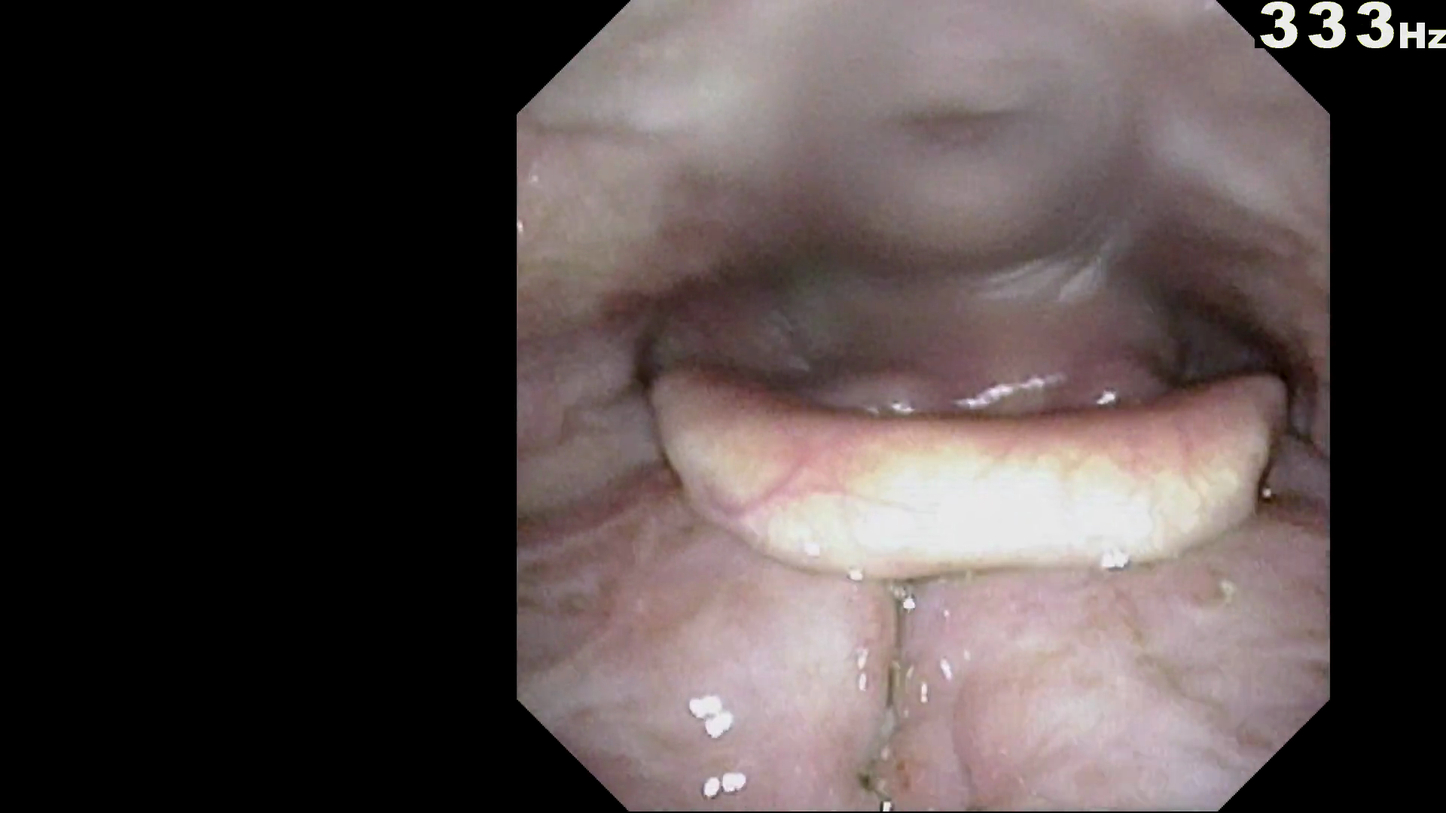epiglottis: (663, 354, 1272, 578)
